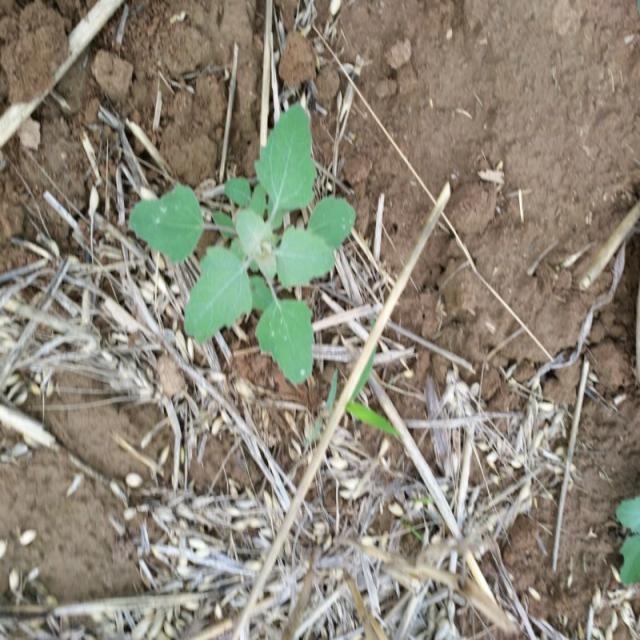goosefoots: (140, 79, 350, 395)
